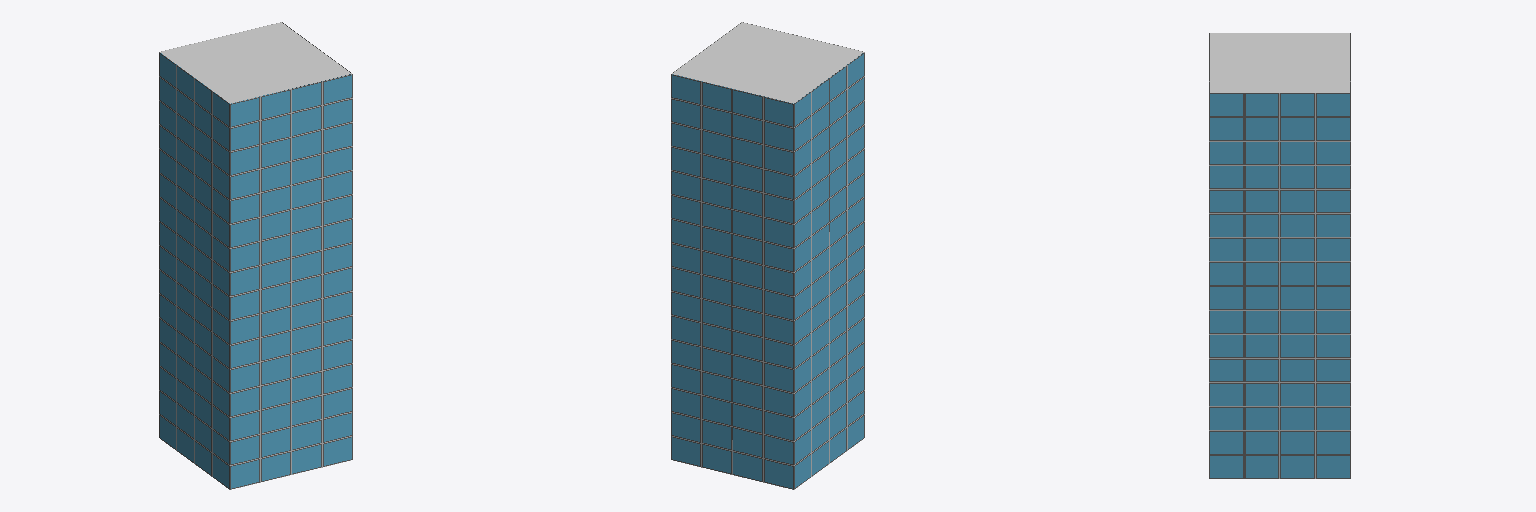
3 views of the same model, side by side, from view 1: azimuth 30°, elevation 25°; view 2: azimuth 150°, elevation 25°; view 3: azimuth 270°, elevation 25° (orthographic).
Parts seen in each view (by area): view 1: 立方体_立方体.002; view 2: 立方体_立方体.002; view 3: 立方体_立方体.002.
Boxes of the visible parts, <box> form: 立方体_立方体.002: <box>159,22,352,489</box>; 立方体_立方体.002: <box>671,22,864,489</box>; 立方体_立方体.002: <box>1209,33,1350,478</box>.
Bounding box in the file's own units: 10 × 30 × 10.
Materials: 1 (1 with a texture image).